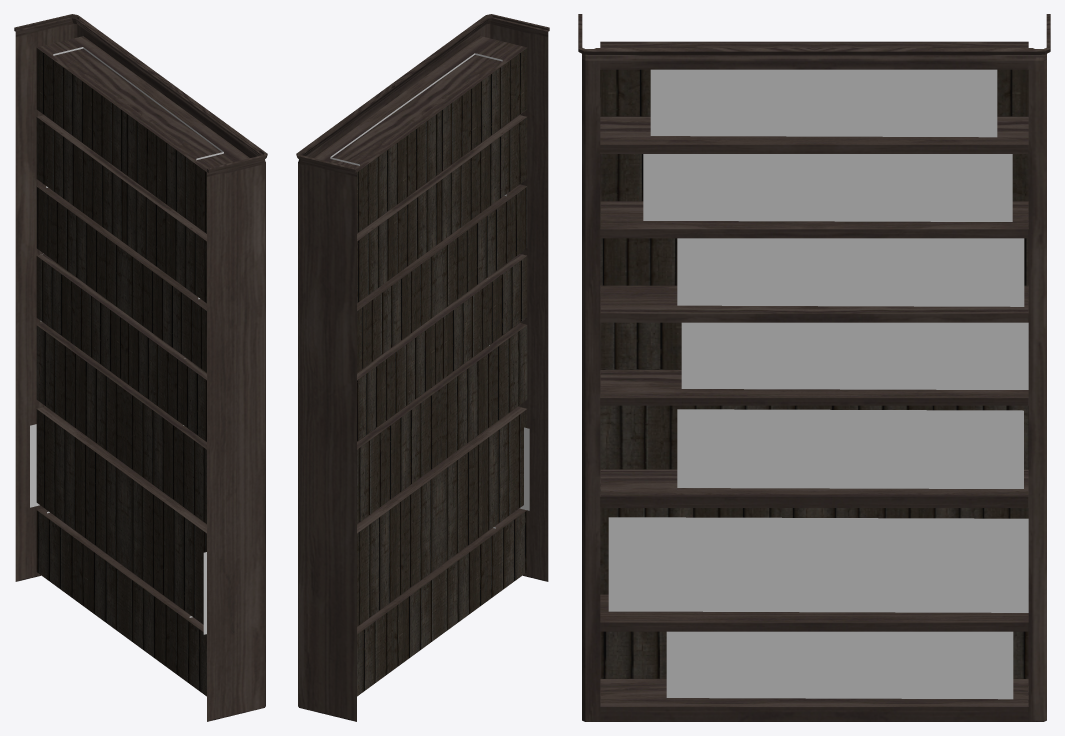
The model's file is LibraryWithBooks.fbx.
The picture shows the model from 3 angles, left to right: view 1: azimuth 30°, elevation 25°; view 2: azimuth 150°, elevation 25°; view 3: azimuth 270°, elevation 25°; orthographic projection. The views are drawn at different scales.
Parts seen in each view (by area): view 1: Cube.052, Plane.034; view 2: Cube.052, Plane.034; view 3: Plane.034, Cube.052.
Boxes of the visible parts, bbox=[...] form: Cube.052: bbox=[14, 14, 267, 721]; Plane.034: bbox=[30, 47, 223, 634]; Cube.052: bbox=[296, 14, 549, 721]; Plane.034: bbox=[330, 53, 529, 528]; Plane.034: bbox=[608, 69, 1028, 699]; Cube.052: bbox=[578, 14, 1050, 721].
Bounding box in the file's own units: 8.94 × 76.48 × 48.72.
